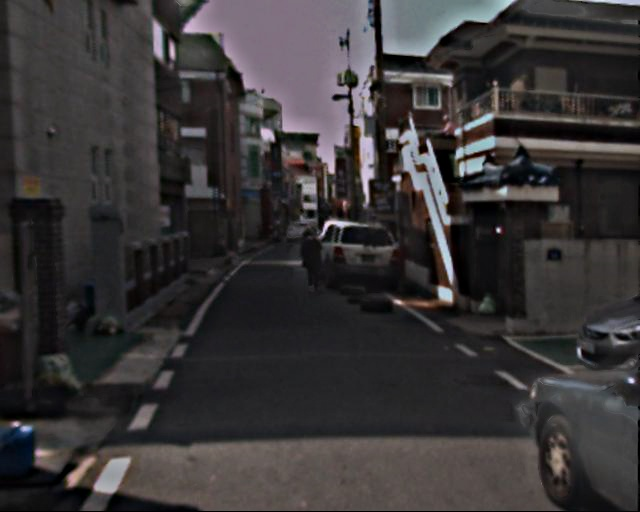person: (299, 228, 326, 293)
